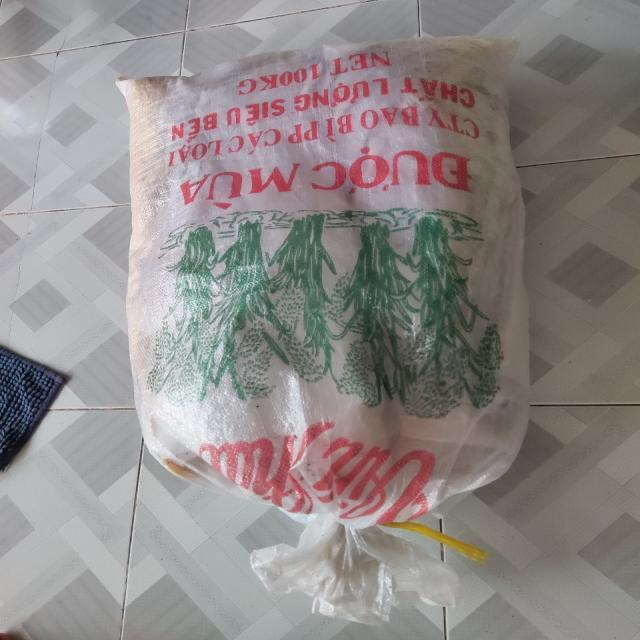gunny_bag: (117, 36, 529, 625)
